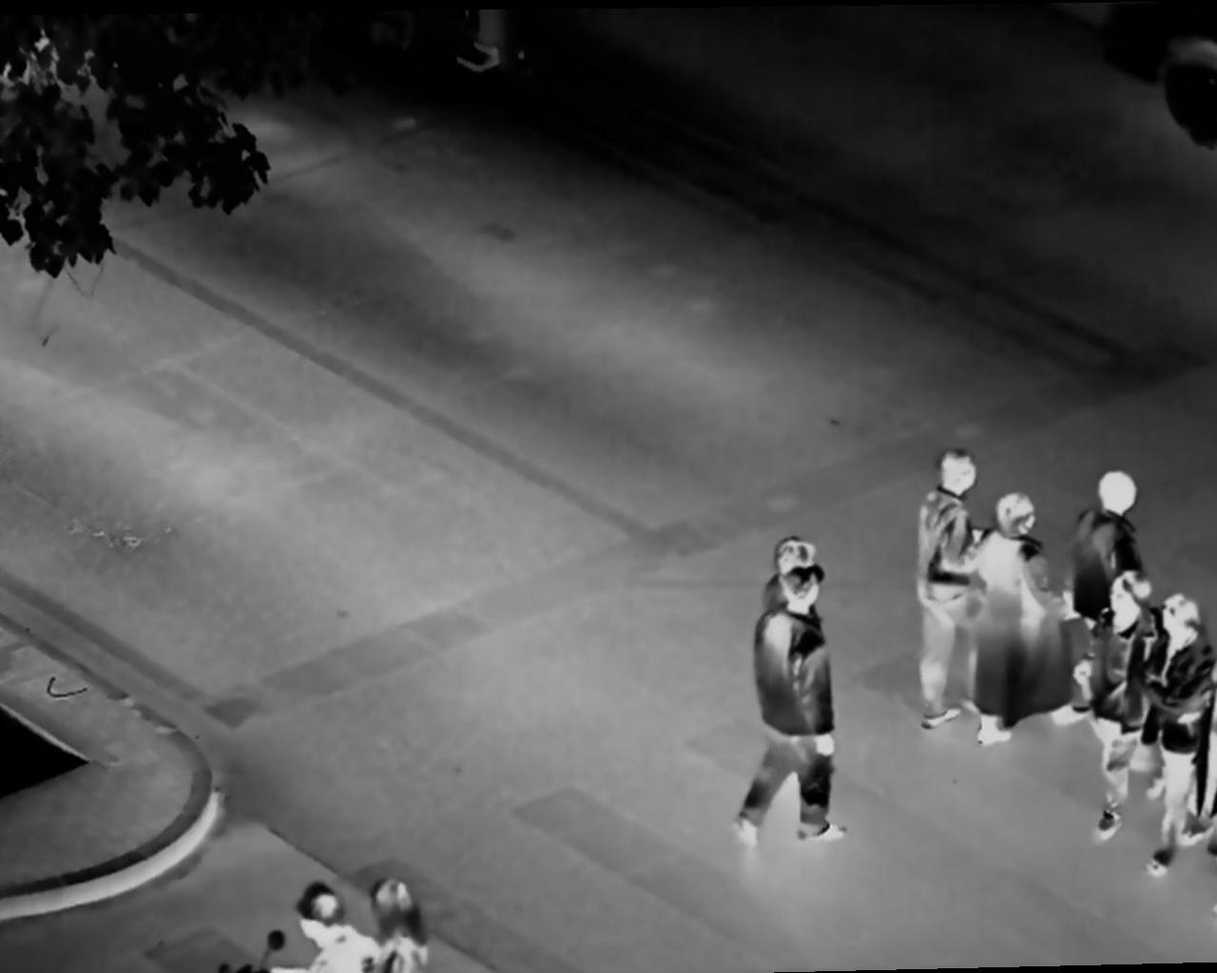person: (748, 538, 839, 784), (976, 495, 1066, 735), (763, 574, 832, 849), (1154, 593, 1217, 884), (1097, 571, 1147, 854), (924, 451, 971, 729), (1069, 467, 1152, 576), (357, 876, 423, 973), (294, 887, 366, 973)
